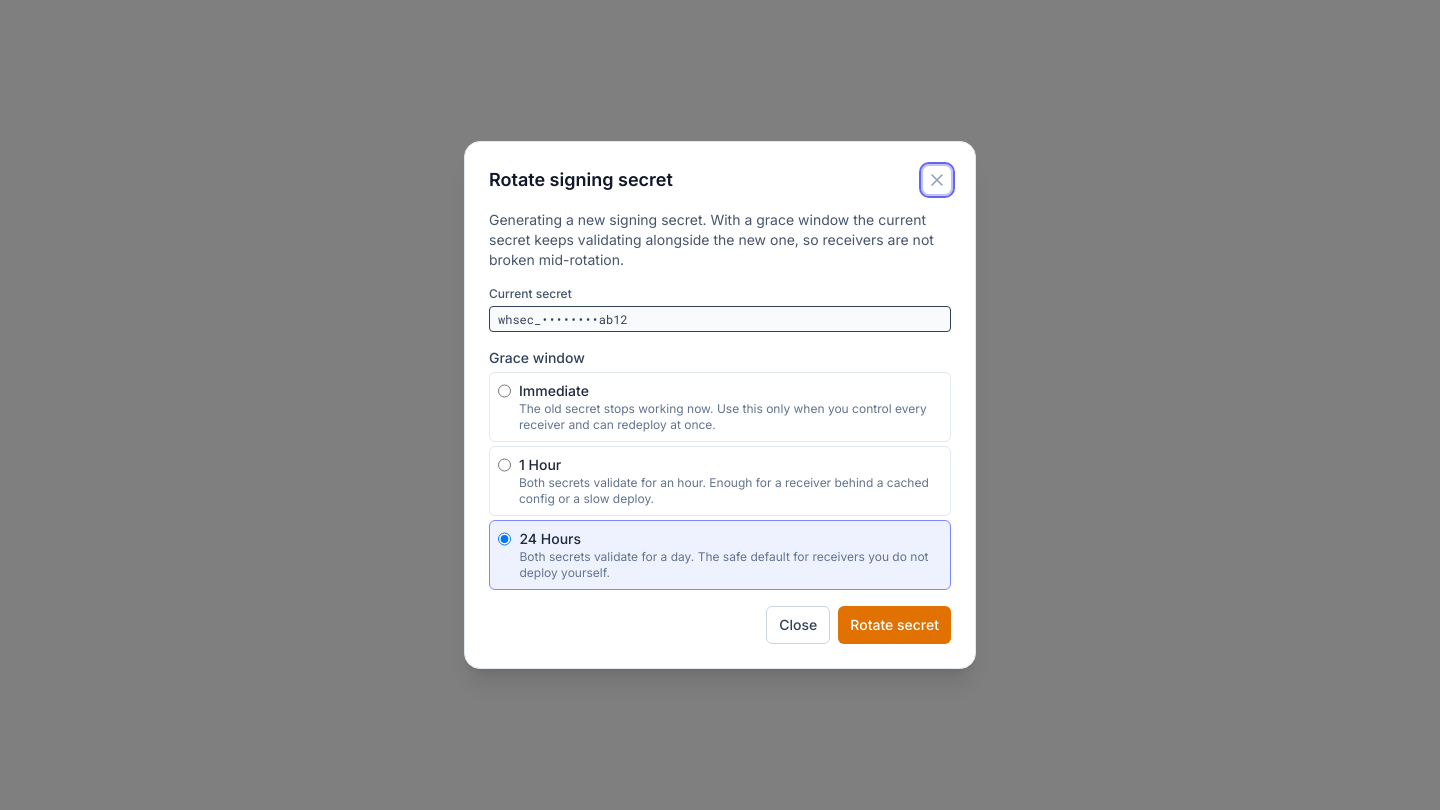
Test case: SecretRotationModal › does not allow a second rotation once a secret has been issued
Click the button with test id "secret-rotation-submit" at (895,625), box [838, 606, 951, 644]
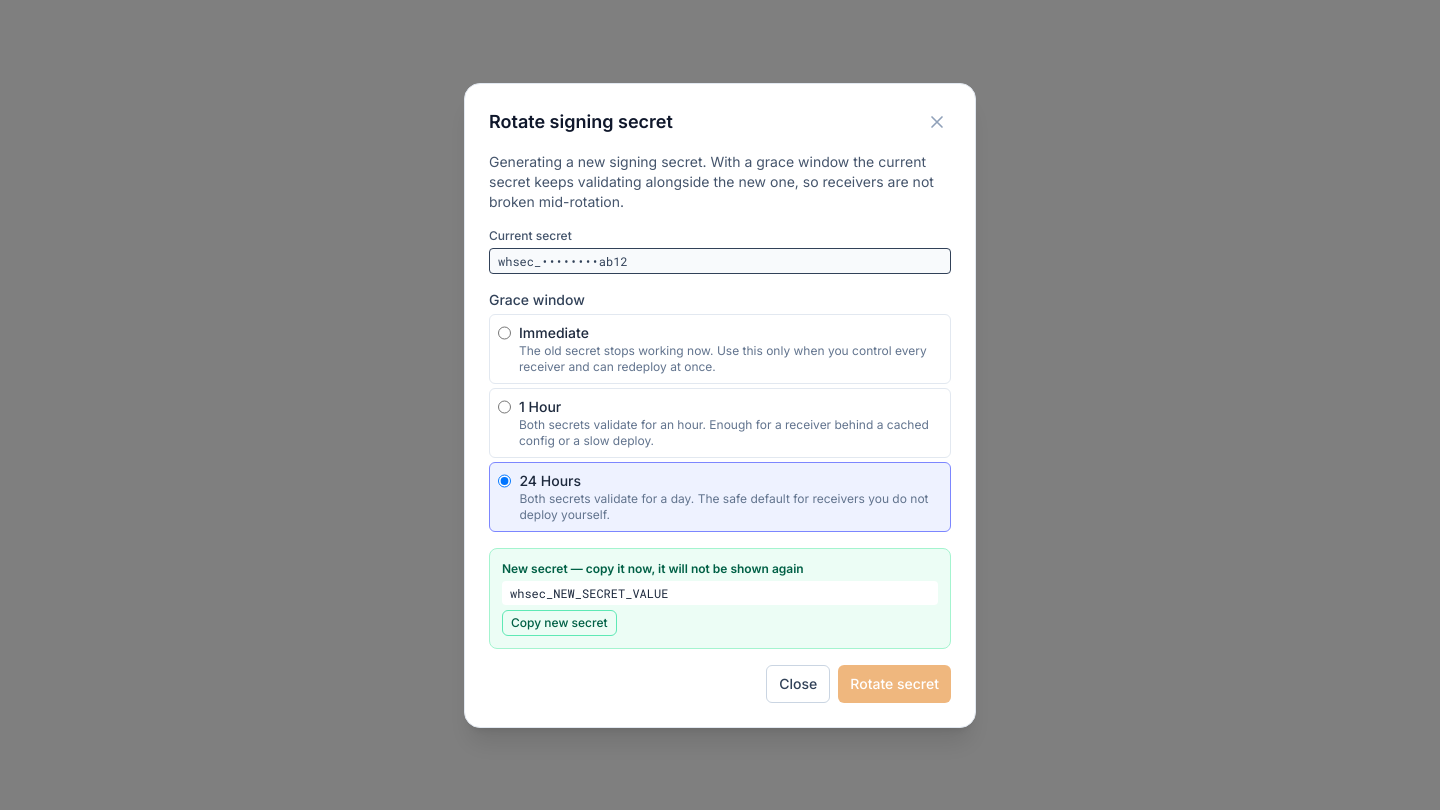
expect the text "whsec_NEW_SECRET_VALUE" is shown: met, box [502, 580, 938, 604]
expect the button with test id "secret-rotation-submit" is disabled: met, box [838, 664, 951, 702]
